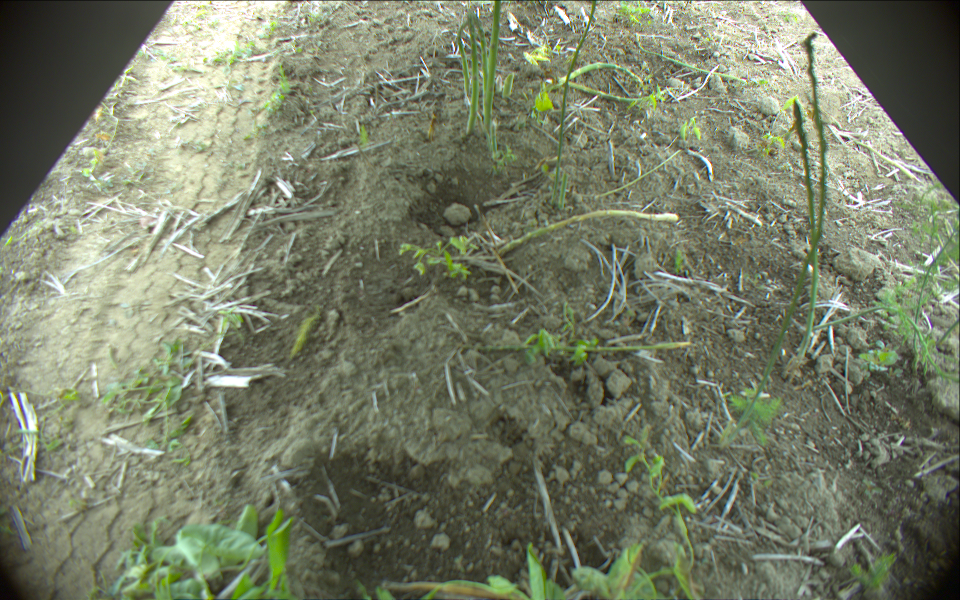aspa: (729, 34, 828, 442), (488, 208, 679, 261), (550, 1, 598, 206), (794, 99, 826, 367), (635, 35, 742, 84), (550, 59, 644, 90), (568, 79, 673, 105), (482, 1, 501, 135), (465, 9, 479, 140), (470, 11, 489, 98), (456, 18, 470, 97), (558, 171, 568, 209), (502, 72, 514, 99), (491, 122, 499, 158)
